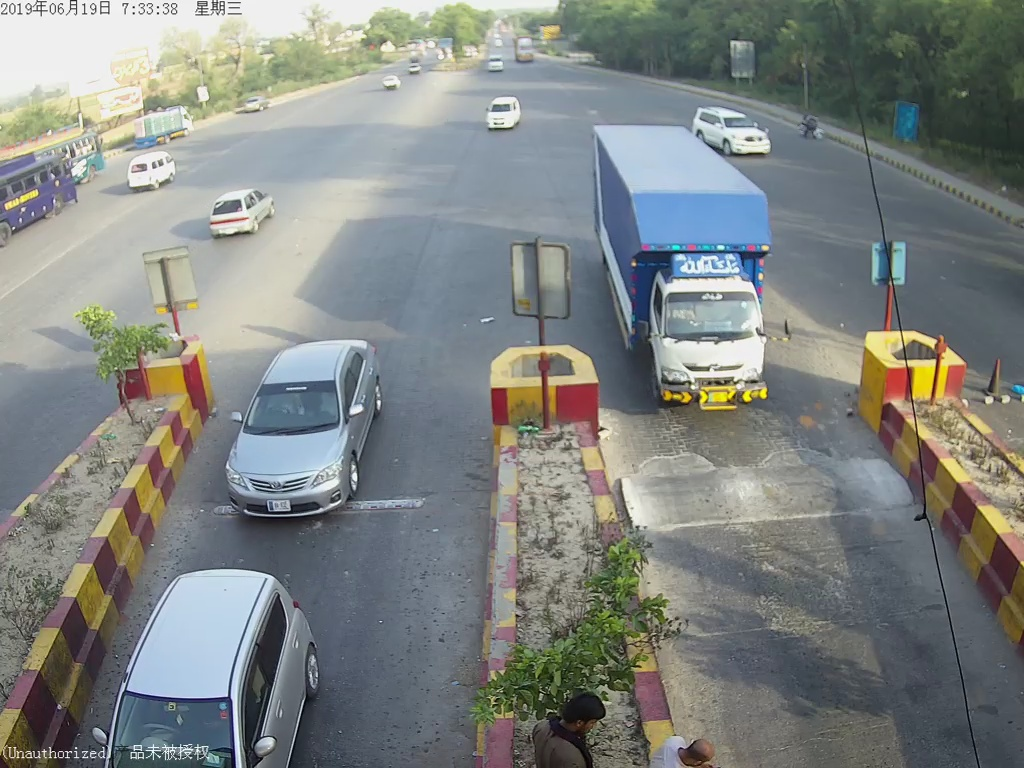Cat-1: (219, 337, 393, 520), (480, 98, 527, 134)
Cat-4: (595, 118, 785, 422)
